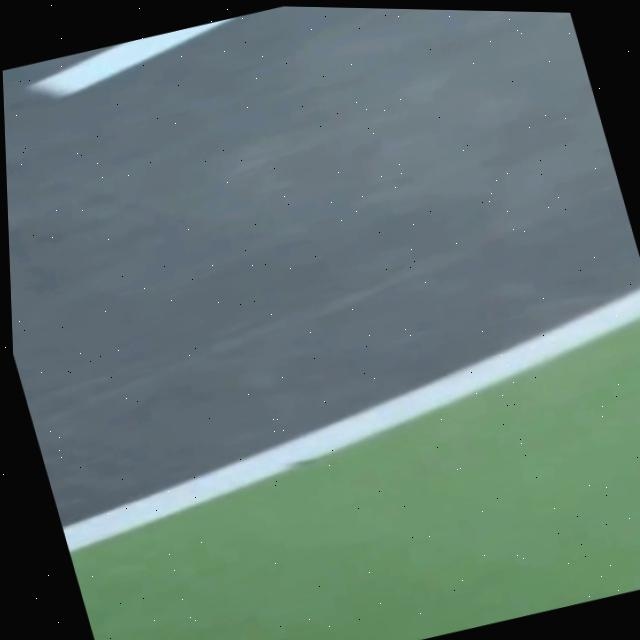center: (29, 17, 233, 96)
right: (61, 289, 640, 550)
